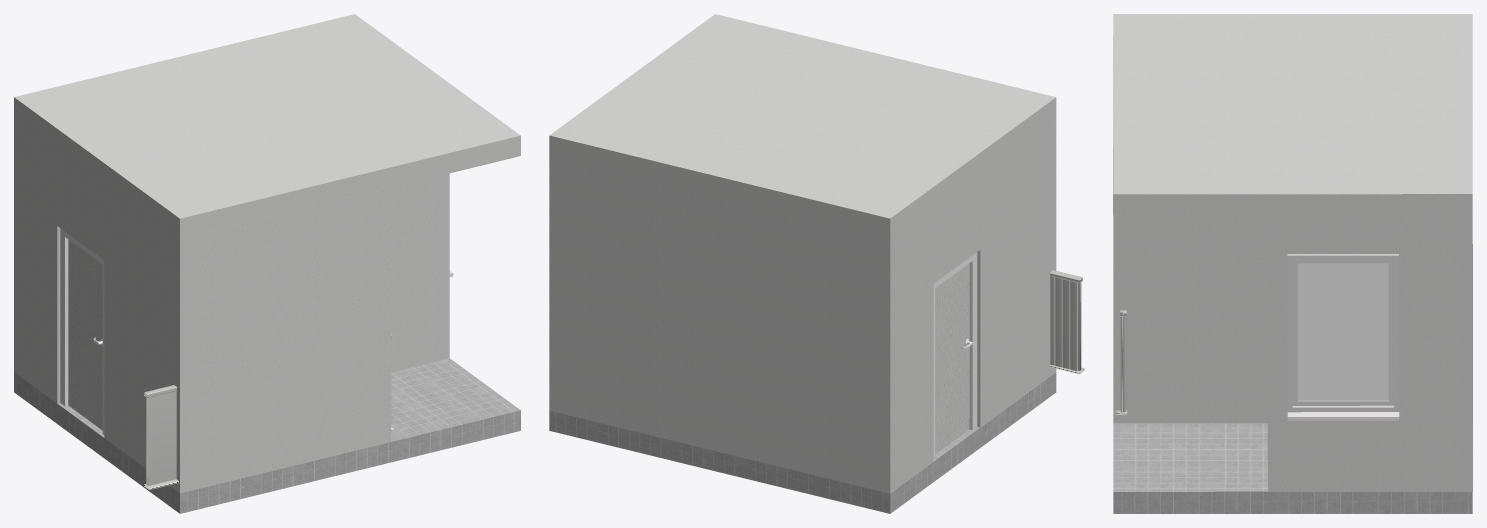
The model's file is FloorPlan426_physics.fbx.
3 renders of one model, left to right at view 1: azimuth 30°, elevation 25°; view 2: azimuth 150°, elevation 25°; view 3: azimuth 270°, elevation 25°, orthographic. The views are drawn at different scales.
Parts seen in each view (by area): view 1: FP426:Walls, FP426:Ceiling, FP426:Floor, FP426:Door.018, FP426:FloorPlan426wall, FP426:DoorFrame.018; view 2: FP426:Walls, FP426:Ceiling, FP426:Floor, FP426:Door.018, FP426:FloorPlan426wall, FP426:DoorFrame.018; view 3: FP426:Ceiling, FP426:Walls, FP426:Floor, FP426:polySurface114, FP426:polySurface115, FP426:FloorPlan426wall.
Part boxes in pixels (<box>): FP426:Walls: <box>14,118,449,493</box>; FP426:Ceiling: <box>14,14,520,238</box>; FP426:Floor: <box>14,358,520,513</box>; FP426:Door.018: <box>68,239,102,430</box>; FP426:FloorPlan426wall: <box>144,334,393,489</box>; FP426:DoorFrame.018: <box>60,228,104,434</box>; FP426:Walls: <box>549,118,1056,493</box>; FP426:Ceiling: <box>549,14,1056,238</box>; FP426:Floor: <box>549,372,1056,513</box>; FP426:Door.018: <box>935,263,969,453</box>; FP426:FloorPlan426wall: <box>1049,270,1084,374</box>; FP426:DoorFrame.018: <box>933,252,977,458</box>; FP426:Ceiling: <box>1113,14,1472,216</box>; FP426:Walls: <box>1113,36,1472,491</box>; FP426:Floor: <box>1113,423,1472,513</box>; FP426:polySurface114: <box>1299,264,1386,398</box>; FP426:polySurface115: <box>1287,254,1399,420</box>; FP426:FloorPlan426wall: <box>1115,310,1127,414</box>.
Size of the model in its own units: 472 by 348 by 354.
